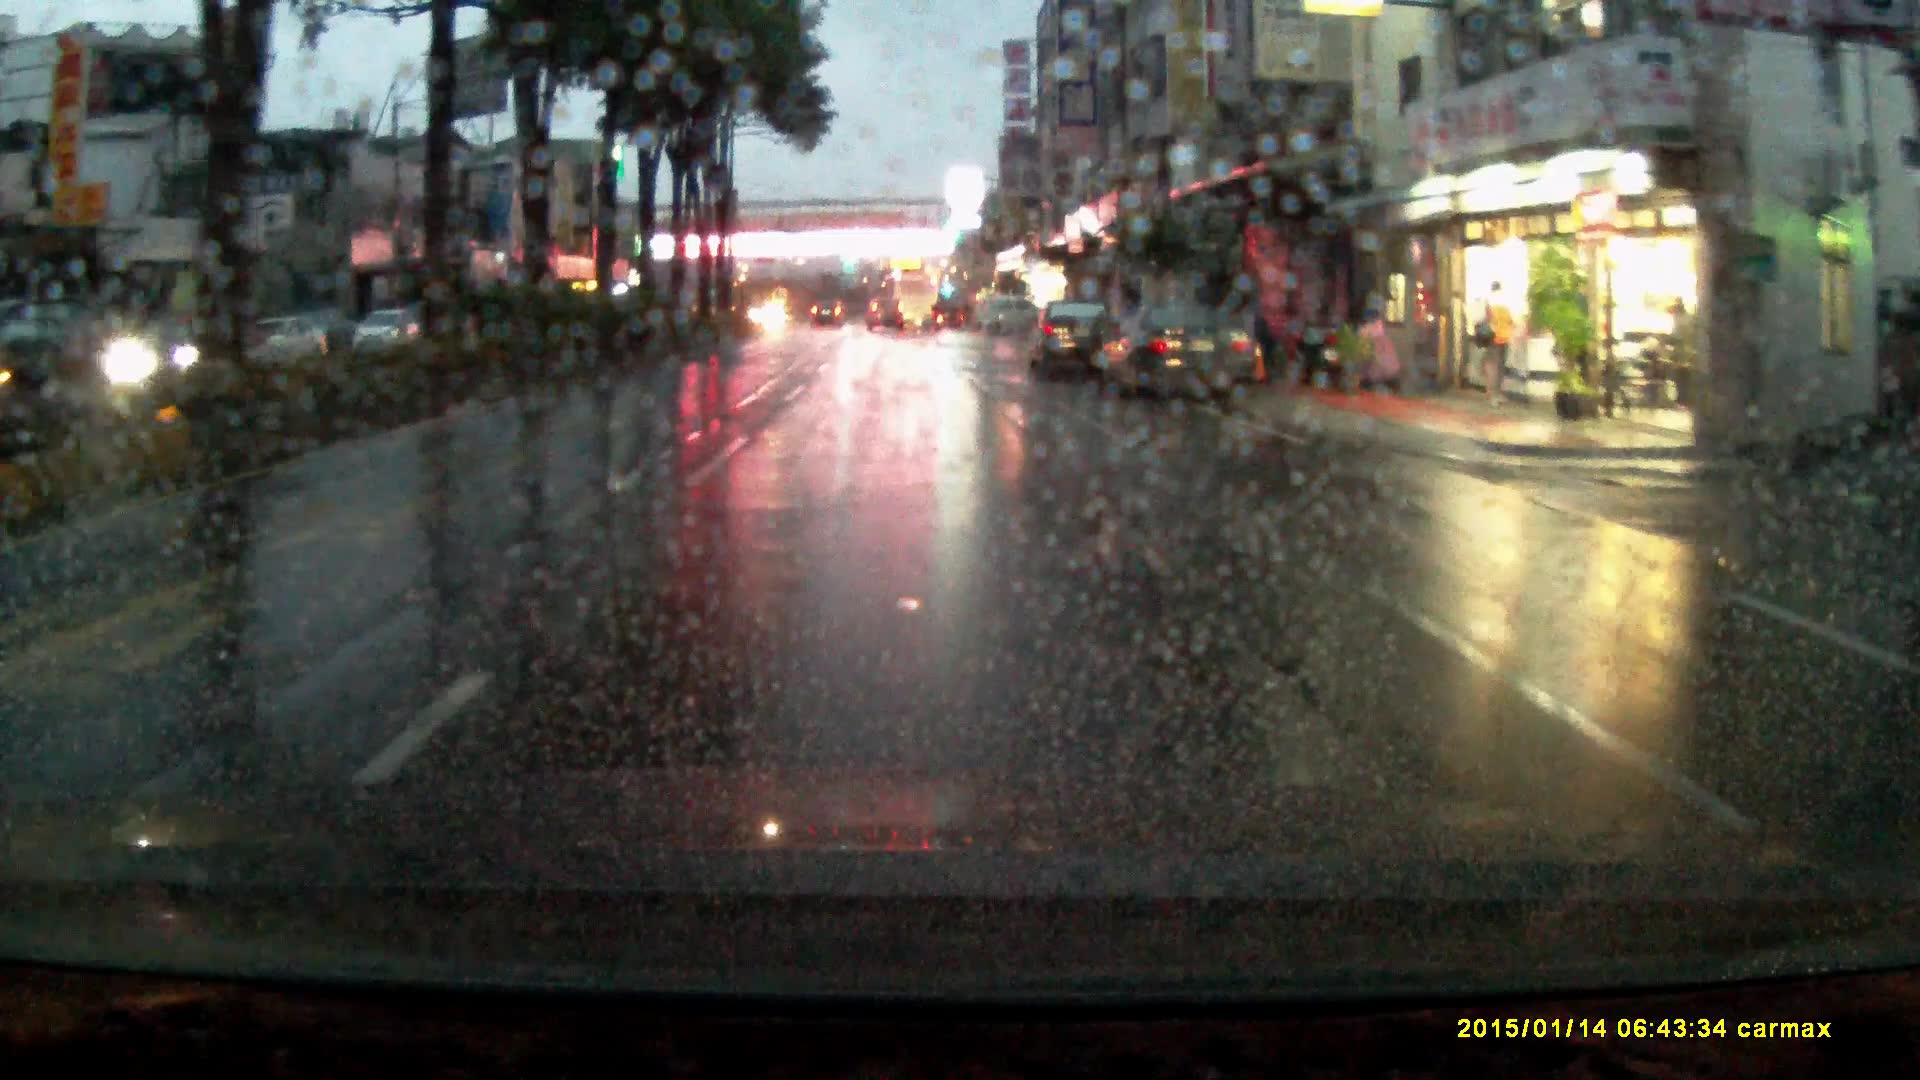vehicle: (1091, 306, 1261, 405), (1029, 302, 1120, 386), (224, 319, 328, 373), (972, 298, 1044, 340), (884, 280, 939, 334), (353, 311, 418, 355), (865, 302, 905, 335), (808, 301, 849, 330)
